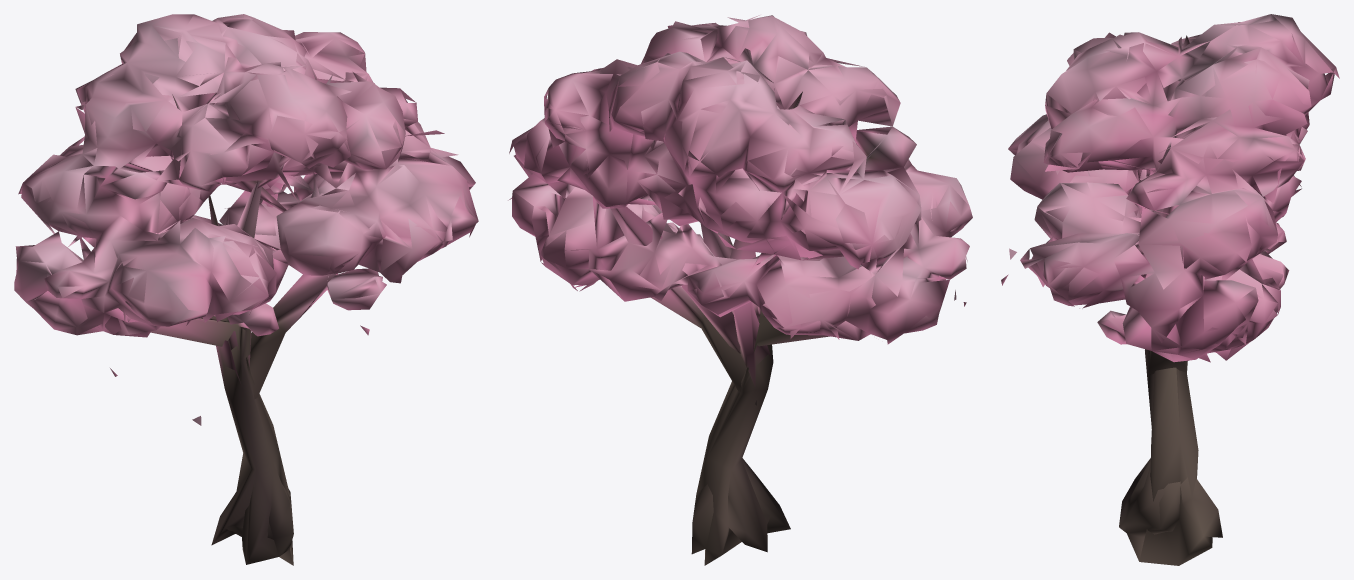
File: sakura.glb
The picture shows the model from 3 angles, left to right: view 1: azimuth 30°, elevation 25°; view 2: azimuth 150°, elevation 25°; view 3: azimuth 270°, elevation 25°; orthographic projection. The views are drawn at different scales.
Visible parts, largest first — view 1: sakura; view 2: sakura; view 3: sakura.
Part boxes in pixels (x1,y1,x2,y2): sakura: (14,14,478,565); sakura: (508,15,972,565); sakura: (1001,14,1339,565).
Size of the model in its own units: 6.68 by 7.69 by 4.59.
